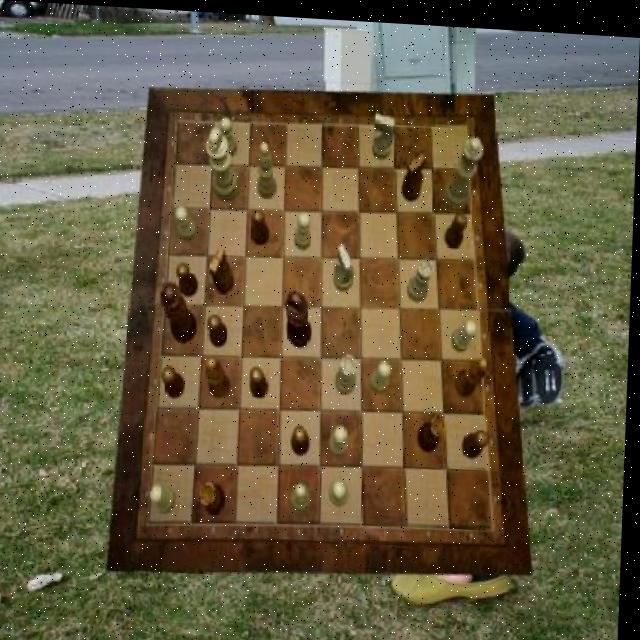bishop: (456, 351, 490, 392), (208, 353, 233, 396)
black-bishop: (286, 286, 315, 345)
black-king: (402, 148, 427, 199), (211, 244, 236, 291)
black-knight: (445, 206, 468, 243), (465, 424, 493, 454), (177, 259, 200, 294), (163, 365, 187, 398), (209, 311, 231, 345), (253, 206, 271, 243), (251, 363, 271, 395), (294, 422, 313, 454)
black-pawn: (161, 279, 200, 342)
black-queen: (420, 409, 448, 448), (204, 481, 230, 515)
black-rook: (258, 138, 279, 197), (292, 479, 316, 514)
white-bishop: (205, 124, 241, 199)
white-king: (372, 108, 396, 155), (335, 239, 357, 286)
white-knight: (454, 312, 479, 347), (175, 204, 199, 239), (371, 355, 393, 390), (153, 482, 178, 512), (220, 115, 238, 156), (296, 208, 314, 246), (331, 421, 351, 452), (331, 474, 351, 501)
white-pawn: (443, 130, 484, 206)
white-queen: (407, 253, 435, 299), (338, 350, 360, 391)
